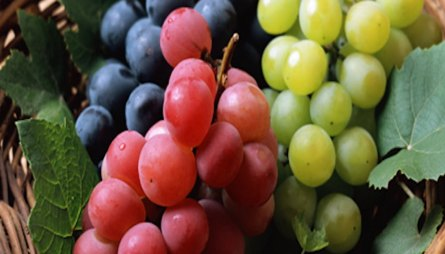Green grapes: (277, 6, 379, 150)
Red Grapes: (121, 108, 253, 227)
